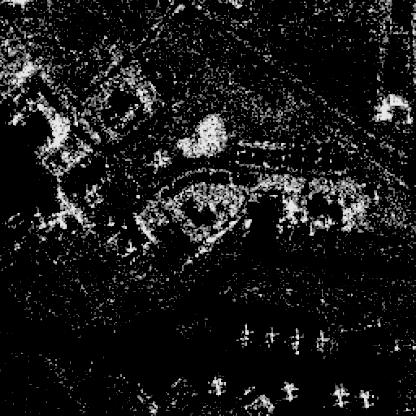airplane: (203, 371, 231, 398), (309, 325, 332, 356), (354, 384, 377, 411), (233, 322, 256, 349), (286, 324, 304, 358), (330, 384, 351, 411), (262, 325, 282, 351), (278, 380, 300, 402)
